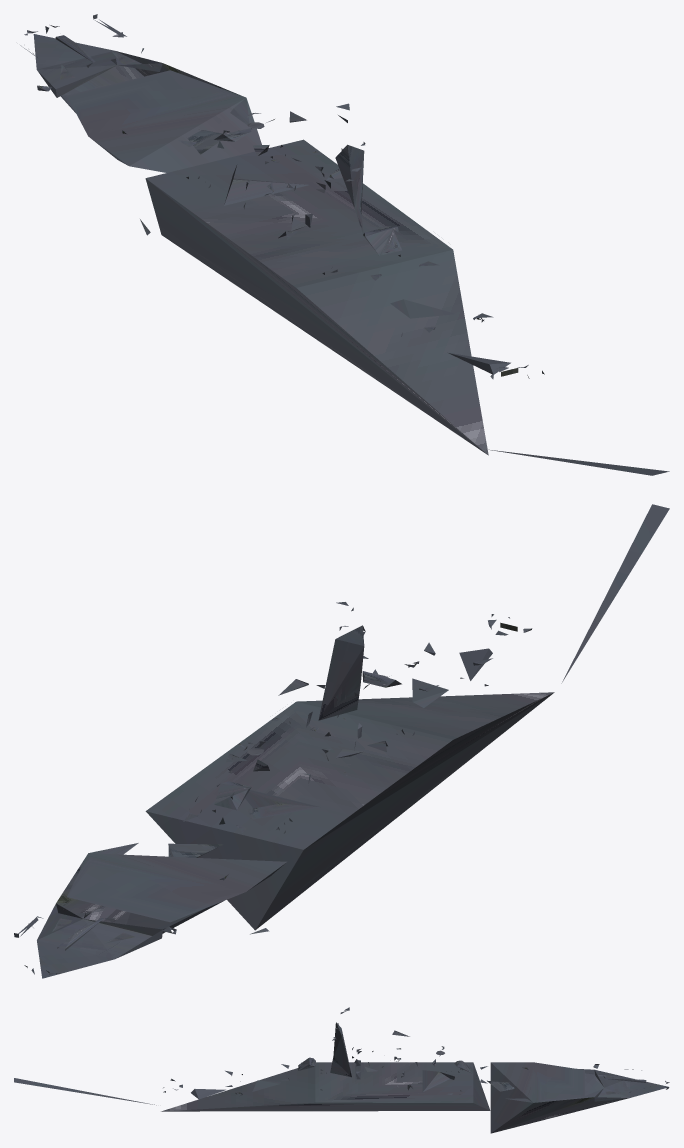
The picture shows the model from 3 angles, top to bottom: view 1: azimuth 30°, elevation 25°; view 2: azimuth 150°, elevation 25°; view 3: azimuth 270°, elevation 25°; orthographic projection. The views are drawn at different scales.
Parts seen in each view (by area): view 1: Object_2; view 2: Object_2; view 3: Object_2.
Part boxes in pixels (x1,y1,x2,y2): Object_2: [20, 14, 669, 475]; Object_2: [14, 504, 669, 978]; Object_2: [14, 1007, 669, 1133].
Size of the model in its own units: 0.9772 by 1.28 by 6.66.
Materials: 1 (1 with a texture image).
